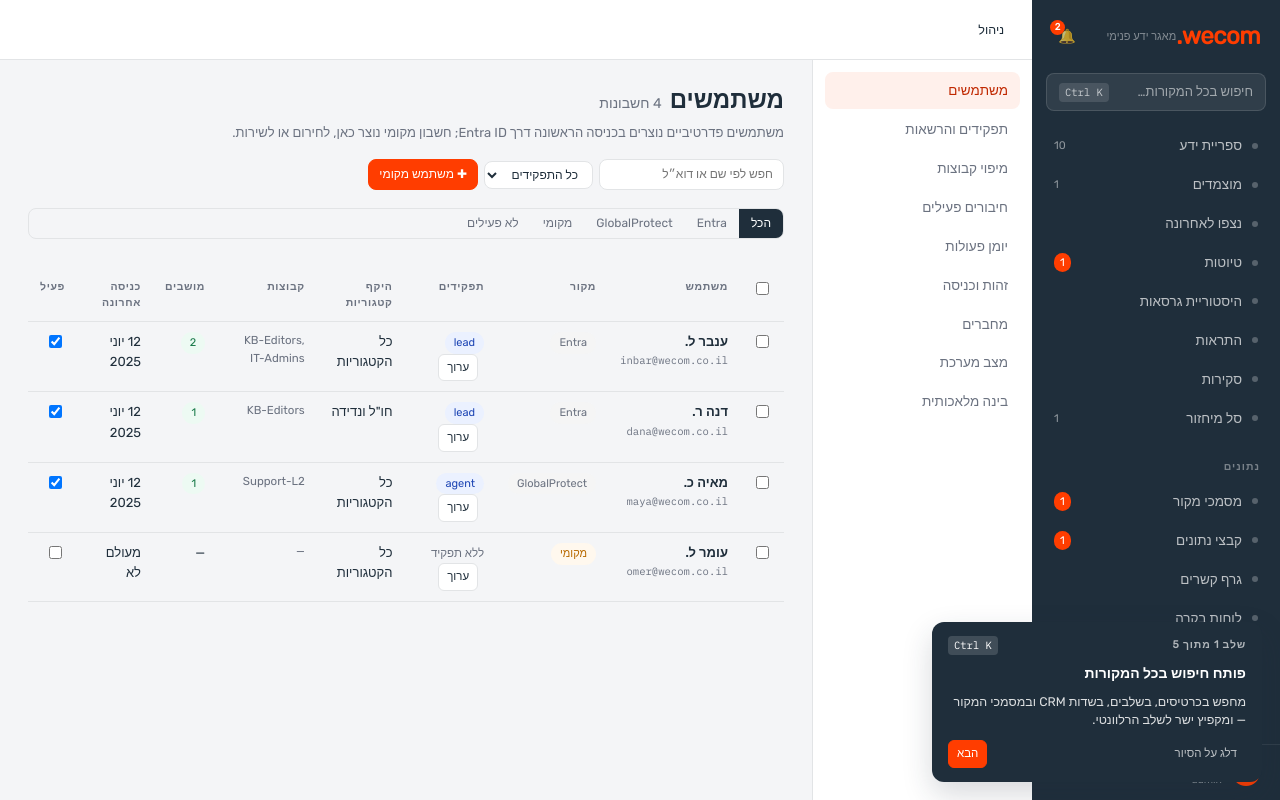
Test case: admin · users › offers an undo on a deactivation, and the undo puts it back (3b)
Step 1. Click the checkbox named "פעיל: דנה ר." → point(56, 412), box [49,406,62,418]
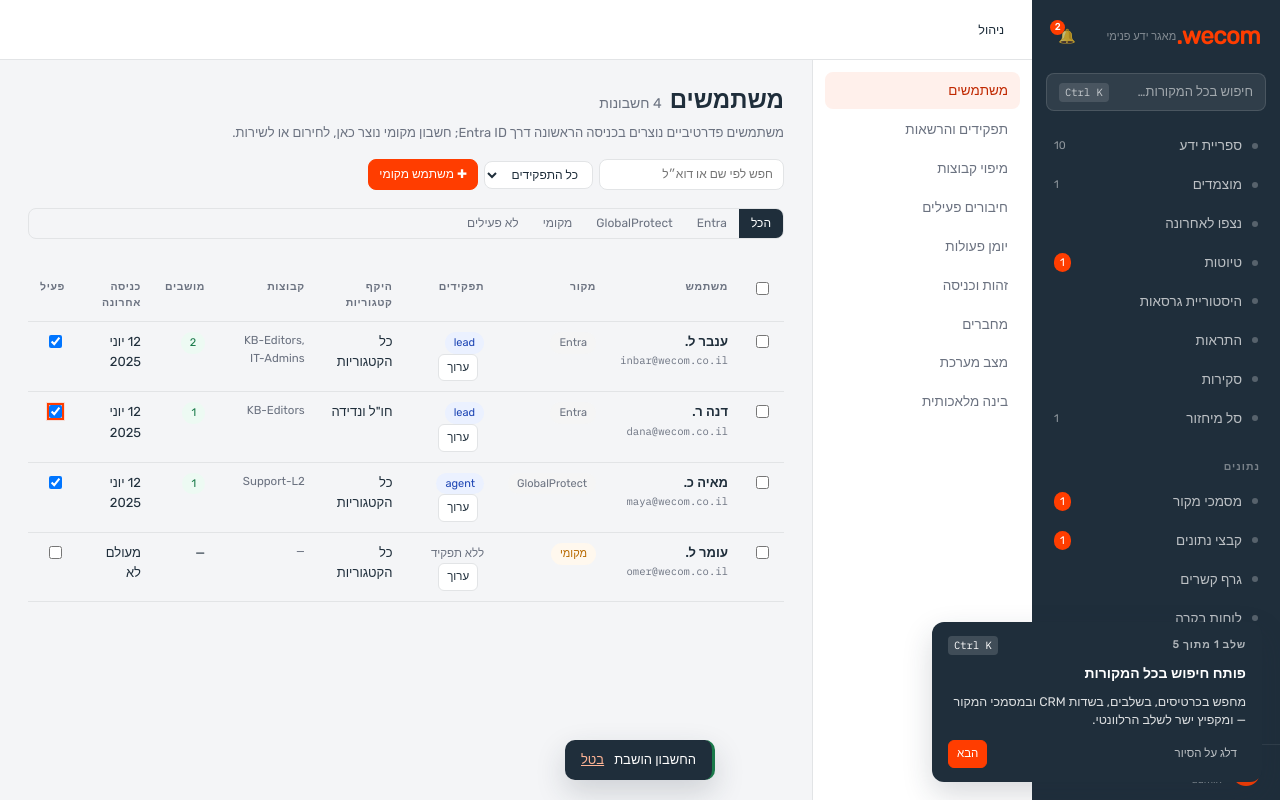
Check: the text "החשבון הושבת" is shown, box [614,750,696,770]
Step 2. Click the button "בטל" → point(593, 760), box [581,750,604,770]
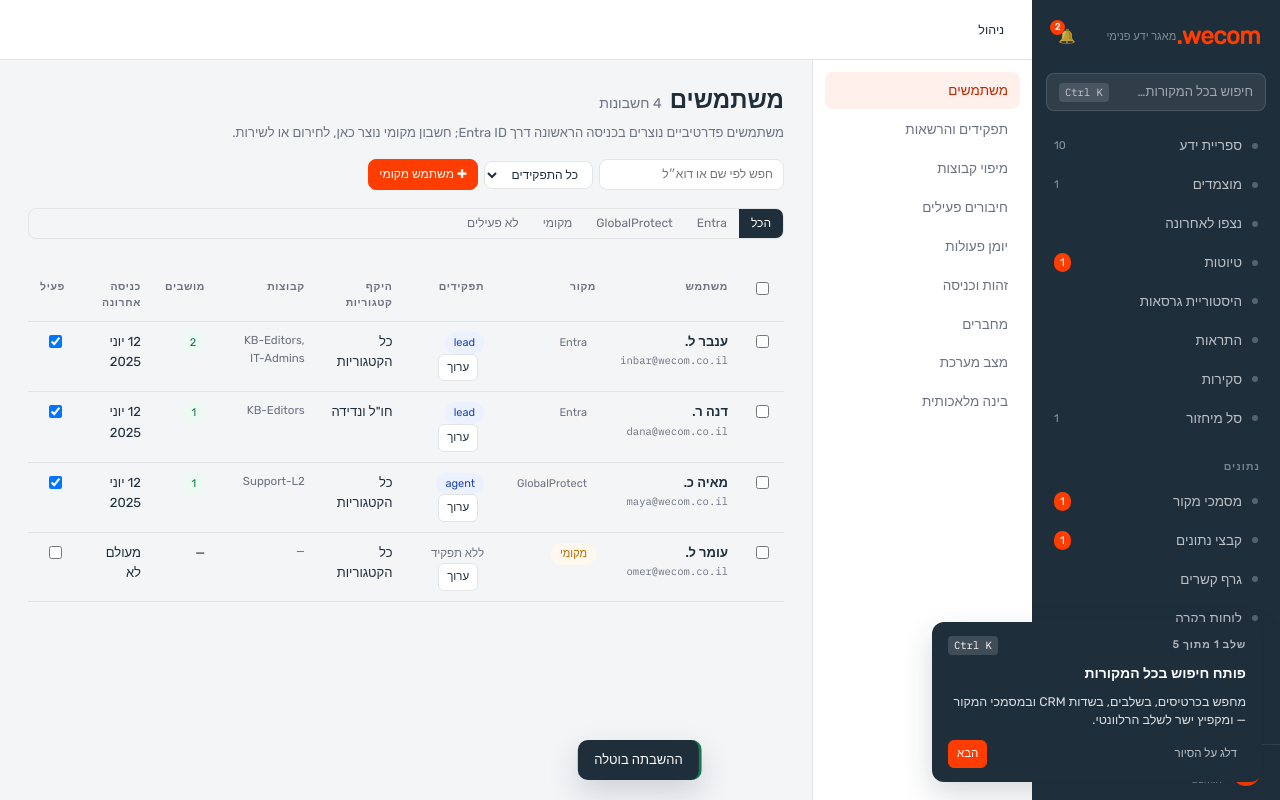
Check: the text "ההשבתה בוטלה" is shown, box [594,750,683,770]
